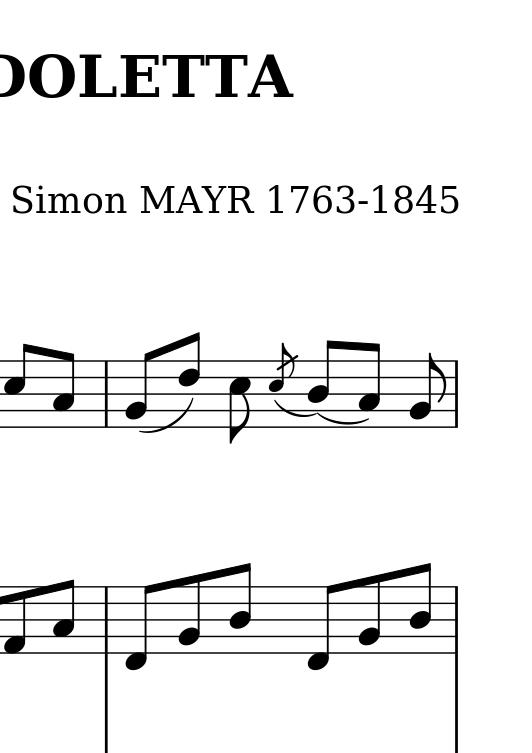8_-1: (306, 581, 342, 671), (124, 582, 160, 671)
8_1: (4, 586, 28, 655)
8_2: (408, 352, 448, 428), (124, 346, 160, 428), (175, 573, 203, 655), (355, 573, 382, 653)
8_3: (359, 342, 381, 429), (52, 348, 75, 429), (52, 579, 76, 653)
8_4: (306, 339, 341, 429), (408, 562, 432, 655), (230, 562, 252, 655)
8_5: (3, 339, 32, 430), (224, 359, 252, 443)
8_6: (175, 331, 202, 429)
Acciaccature: (270, 342, 296, 430)
Single_barline: (99, 586, 116, 654), (447, 584, 463, 655), (99, 360, 115, 427), (449, 359, 464, 428)
Slur: (138, 396, 193, 435), (271, 398, 316, 419), (316, 414, 368, 424)
